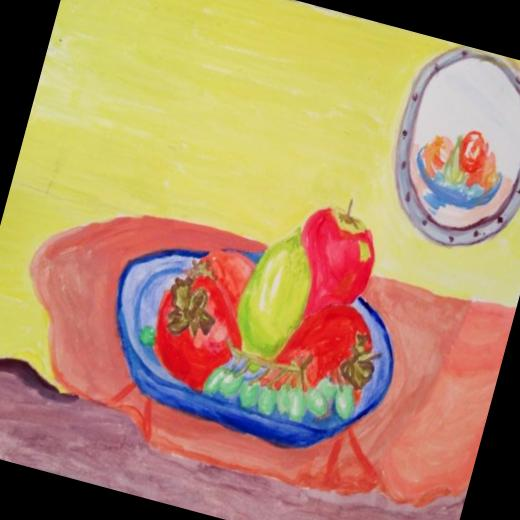Apple: (282, 186, 392, 332)
